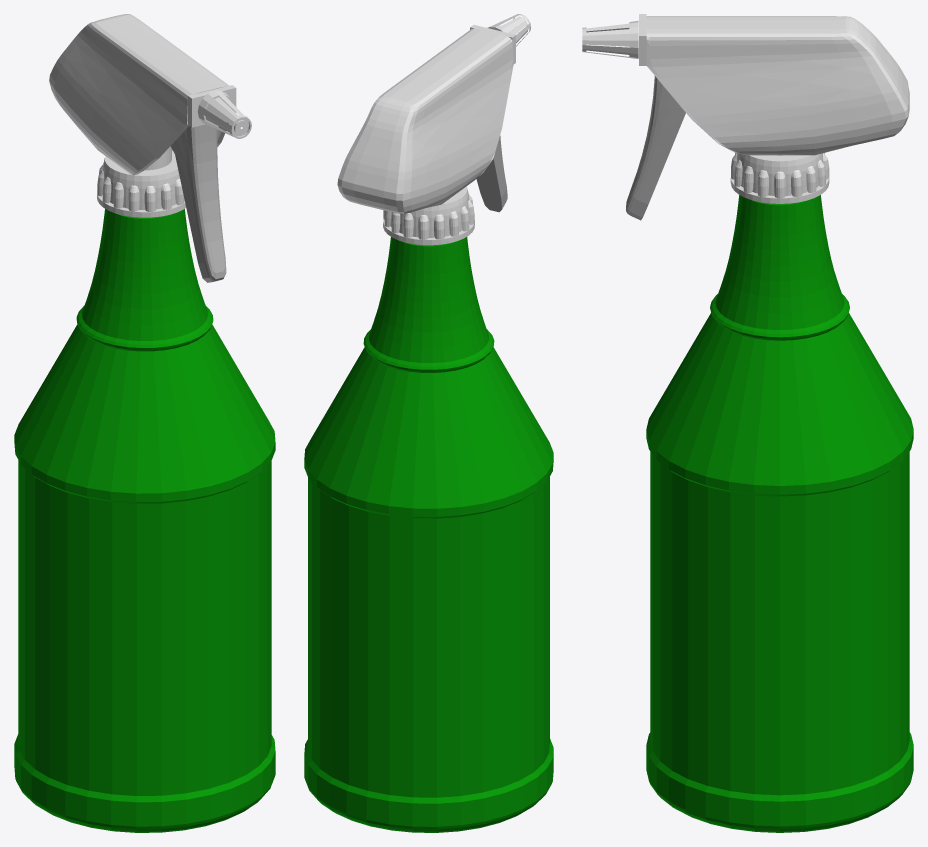
File: sweethome3d-katorlegaz-spray-bottle.glb
3 renders of one model, left to right at view 1: azimuth 30°, elevation 25°; view 2: azimuth 150°, elevation 25°; view 3: azimuth 270°, elevation 25°, orthographic. The views are drawn at different scales.
Parts seen in each view (by area): view 1: bottle, head, handle, mount, nozzle; view 2: bottle, head, mount, handle, nozzle; view 3: bottle, head, mount, handle, nozzle.
Boxes of the visible parts, x1,y1,x2,y2 form: bottle: (14,209,275,832); head: (49,14,228,175); handle: (170,124,226,282); mount: (97,146,185,217); nozzle: (188,85,251,138); bottle: (304,237,553,832); head: (337,28,513,213); mount: (383,186,474,245); handle: (476,135,507,212); nozzle: (470,14,530,64); bottle: (646,195,913,832); head: (646,16,909,155); mount: (730,152,829,203); handle: (626,76,685,220); nozzle: (582,14,646,65).
Size of the model in its own units: 0.5296 by 1.66 by 0.6565.
